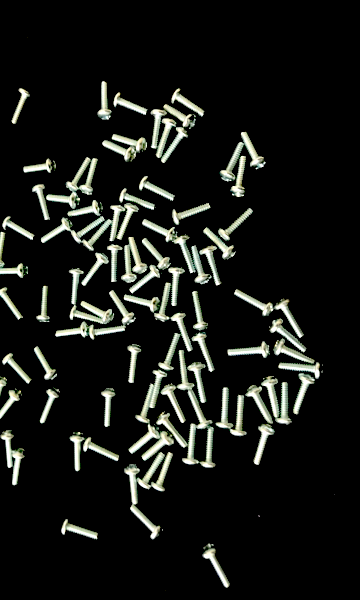shortscrew: (269, 319, 309, 355), (201, 544, 232, 590), (275, 298, 306, 340), (129, 505, 165, 541), (218, 208, 255, 243), (234, 289, 277, 319), (203, 226, 237, 262), (161, 127, 192, 164), (137, 452, 166, 491), (240, 131, 268, 171), (187, 388, 213, 431), (273, 339, 316, 365), (219, 142, 246, 183), (172, 88, 208, 118), (247, 385, 274, 424), (293, 374, 318, 416), (71, 216, 106, 246), (192, 331, 218, 371), (2, 352, 33, 385), (83, 218, 113, 252), (81, 253, 110, 288), (129, 265, 163, 294), (109, 291, 137, 326), (135, 384, 159, 424), (252, 424, 274, 467), (152, 452, 175, 493), (158, 332, 182, 371), (34, 346, 60, 382), (140, 177, 176, 203), (83, 437, 120, 462), (142, 219, 179, 244), (66, 157, 91, 194), (200, 246, 223, 286), (174, 235, 197, 275), (172, 203, 212, 226), (39, 386, 63, 424), (156, 118, 178, 159), (41, 218, 74, 245), (163, 104, 197, 130), (148, 368, 169, 410), (279, 360, 325, 379), (191, 245, 212, 286), (117, 203, 140, 240), (103, 139, 137, 164), (188, 361, 208, 403), (0, 287, 24, 322), (113, 92, 148, 116), (62, 520, 100, 542), (120, 188, 156, 211), (228, 340, 271, 359), (81, 300, 115, 324), (191, 290, 211, 330), (12, 87, 33, 125), (128, 237, 149, 275), (230, 156, 249, 198), (182, 423, 200, 467), (80, 158, 100, 197), (100, 387, 119, 428), (112, 133, 149, 154), (216, 387, 234, 430), (230, 395, 248, 438), (261, 376, 279, 419), (3, 216, 35, 240), (0, 388, 23, 421), (276, 382, 293, 426), (124, 294, 161, 314), (69, 432, 87, 472), (201, 427, 218, 469), (121, 245, 139, 284), (68, 199, 103, 219), (124, 464, 141, 505), (11, 447, 28, 488), (127, 344, 144, 385), (177, 350, 194, 391), (96, 81, 113, 121), (151, 110, 168, 150), (32, 184, 50, 221), (89, 324, 127, 341), (70, 305, 104, 324), (0, 429, 16, 469), (109, 205, 126, 242), (56, 321, 90, 339), (69, 268, 85, 306), (23, 158, 58, 175), (107, 245, 122, 284), (47, 192, 81, 209), (37, 286, 50, 324), (0, 264, 29, 279), (0, 376, 9, 412), (0, 231, 8, 268)
